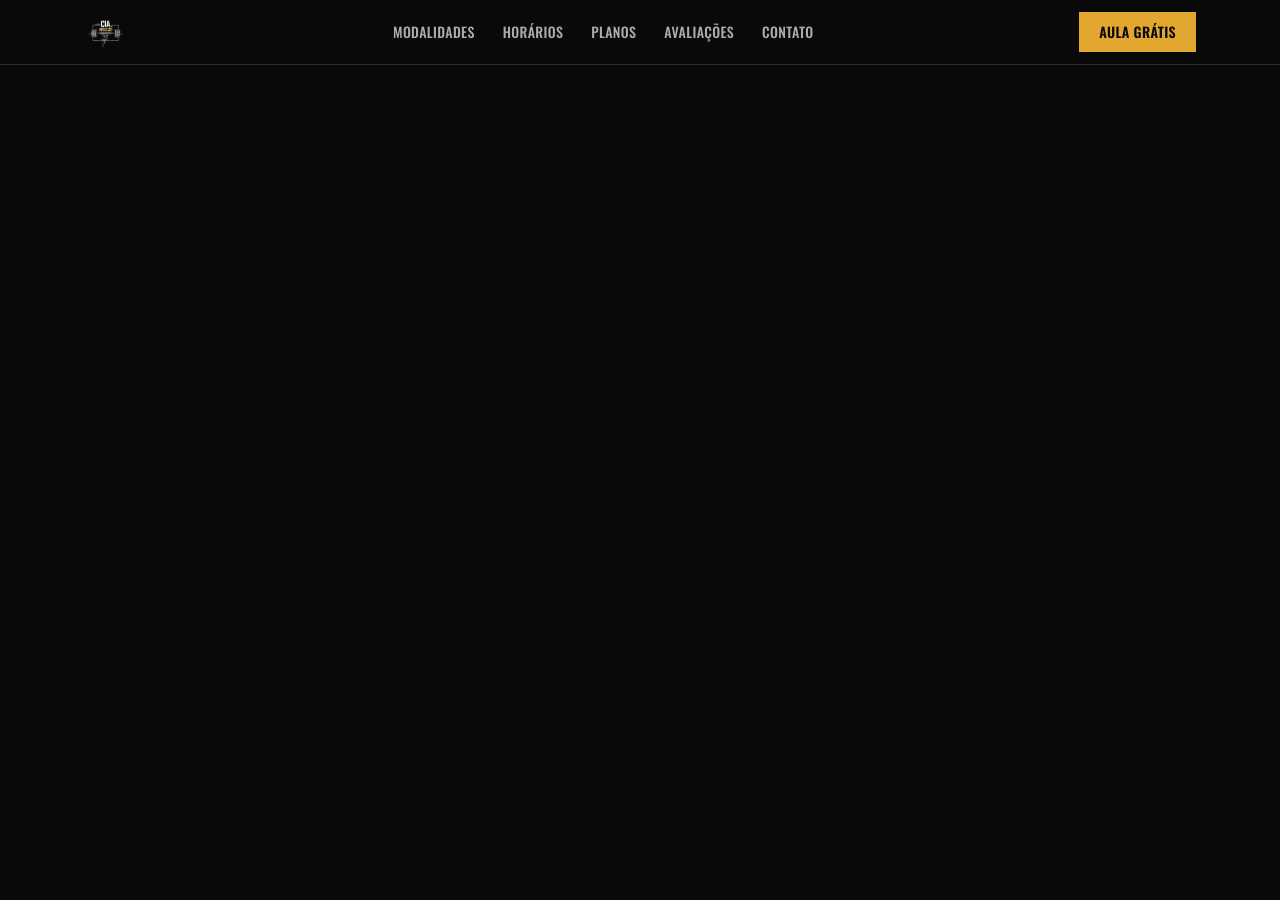
it: Header › botão "Aula grátis" abre o mini quiz em vez de linkar direto pro WhatsApp
Click the button "Aula grátis" at (1138, 32), box left=1079, top=12, right=1196, bottom=52
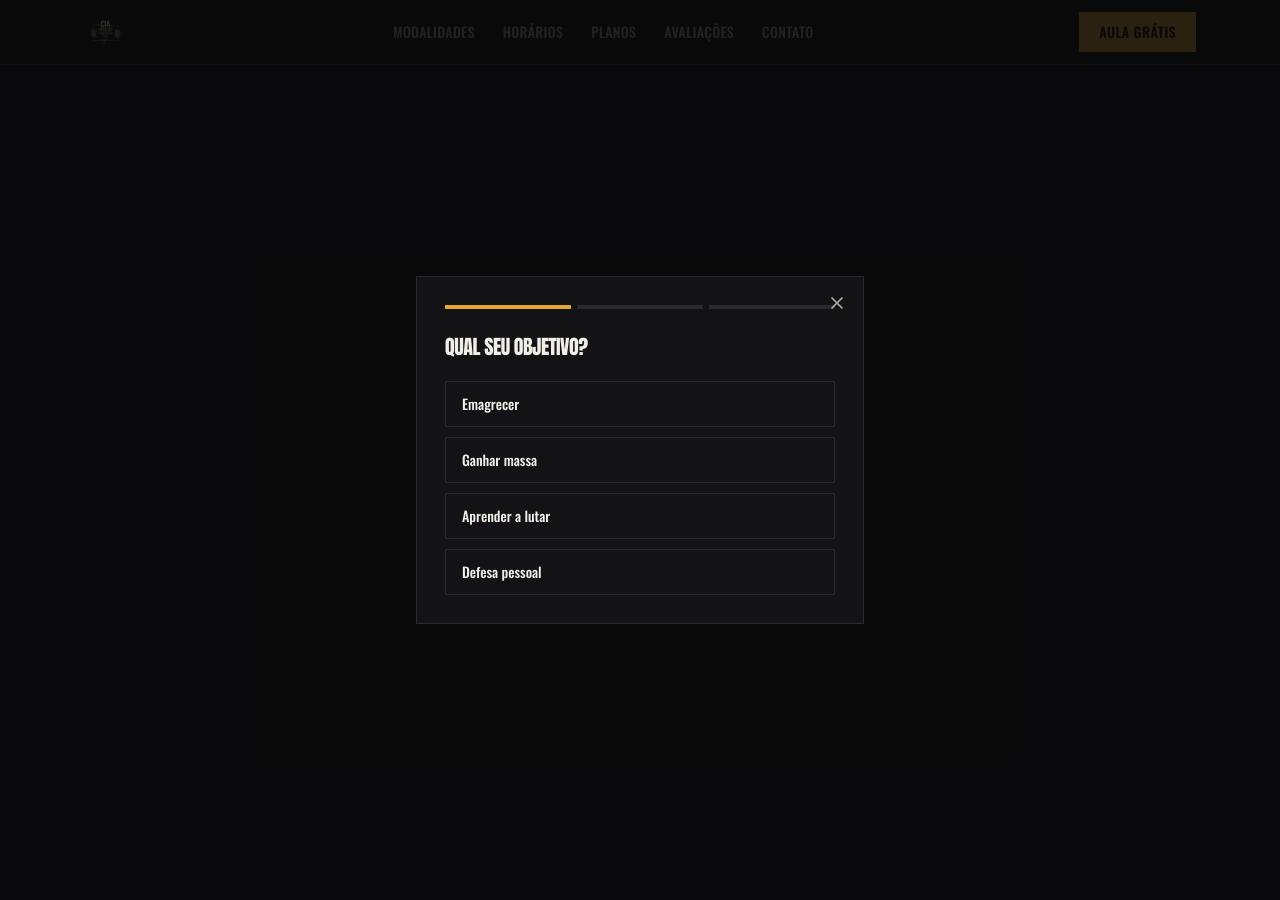
Result: the dialog is shown
Result: the heading "Qual seu objetivo?" is shown at left=445, top=331, right=588, bottom=362
